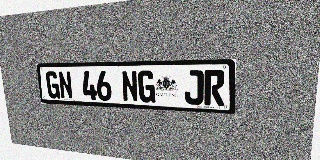4: (81, 71, 97, 100)
6: (95, 71, 112, 101)
G: (138, 70, 155, 103), (45, 71, 60, 99)
J: (184, 70, 204, 105)
N: (121, 71, 138, 102), (58, 71, 73, 99)
R: (204, 70, 225, 106)
